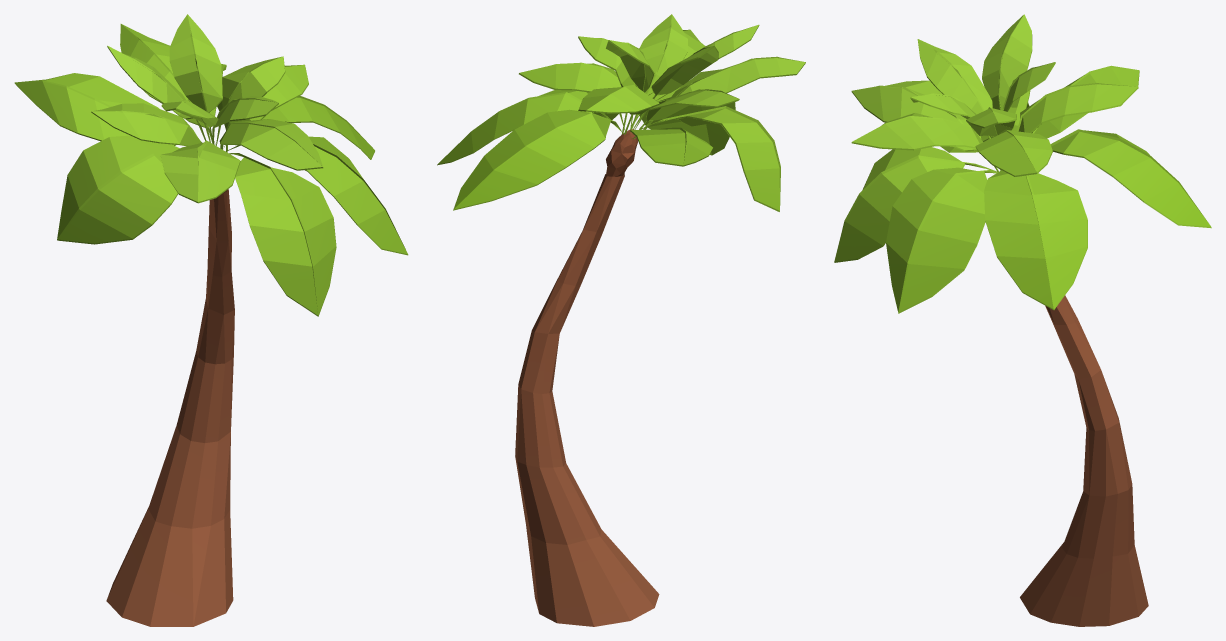
File: Palm Tree 2 .fbx
The picture shows the model from 3 angles, left to right: view 1: azimuth 30°, elevation 25°; view 2: azimuth 150°, elevation 25°; view 3: azimuth 270°, elevation 25°; orthographic projection. The views are drawn at different scales.
Visible parts, largest first — view 1: Palm Tree 2.001; view 2: Palm Tree 2.001; view 3: Palm Tree 2.001.
Boxes of the visible parts, bbox=[...] form: Palm Tree 2.001: bbox=[14, 14, 408, 626]; Palm Tree 2.001: bbox=[437, 14, 805, 626]; Palm Tree 2.001: bbox=[834, 14, 1211, 626].
Bounding box in the file's own units: 261 × 434 × 271.
